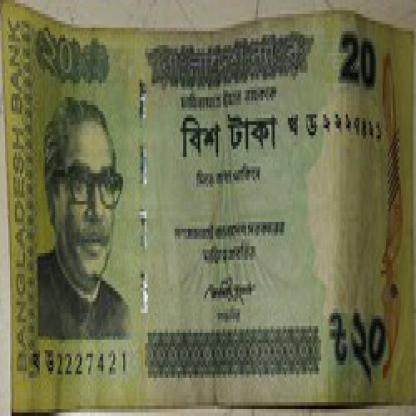Twenty: (330, 298, 390, 388), (178, 111, 280, 159), (38, 24, 106, 90), (334, 24, 390, 104)
